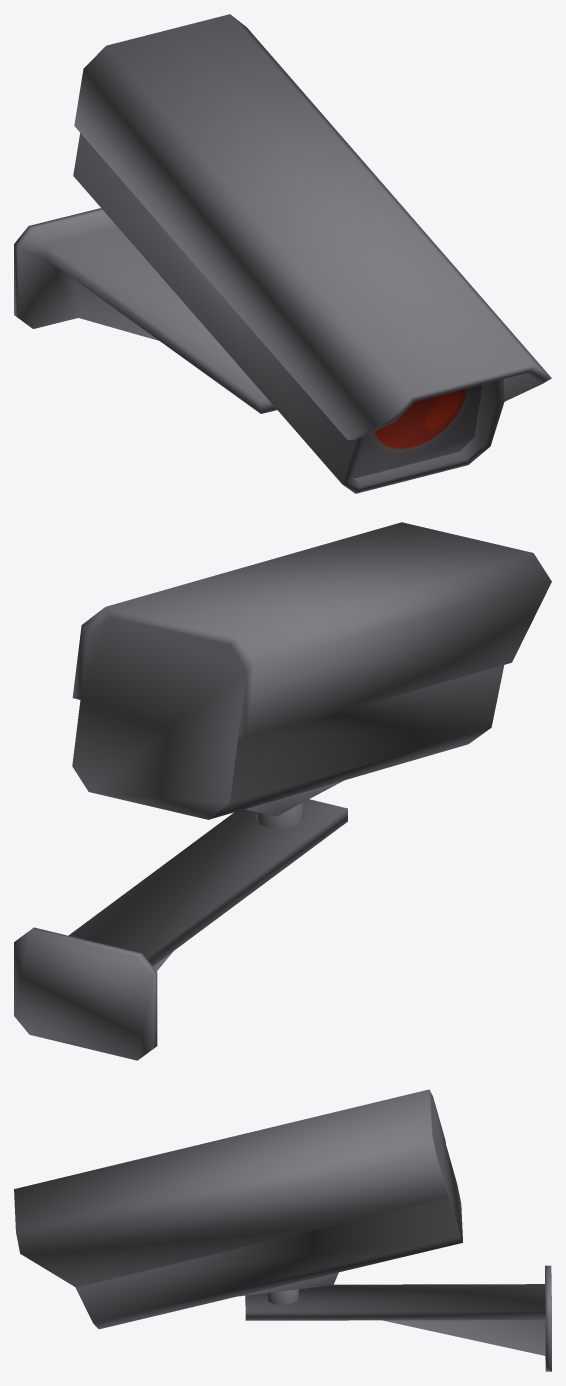
Rendered from camFBXNew2.fbx.
3 renders of one model, top to bottom at view 1: azimuth 30°, elevation 25°; view 2: azimuth 150°, elevation 25°; view 3: azimuth 270°, elevation 25°, orthographic. The views are drawn at different scales.
Visible parts, largest first — view 1: head, stem; view 2: head, stem; view 3: head, stem.
Boxes of the visible parts, x1,y1,x2,y2 form: head: (73, 14, 551, 493); stem: (14, 208, 276, 413); head: (72, 522, 551, 819); stem: (14, 799, 347, 1060); head: (14, 1089, 462, 1329); stem: (245, 1265, 551, 1371).
Size of the model in its own units: 10.66 by 20.08 by 40.22.
